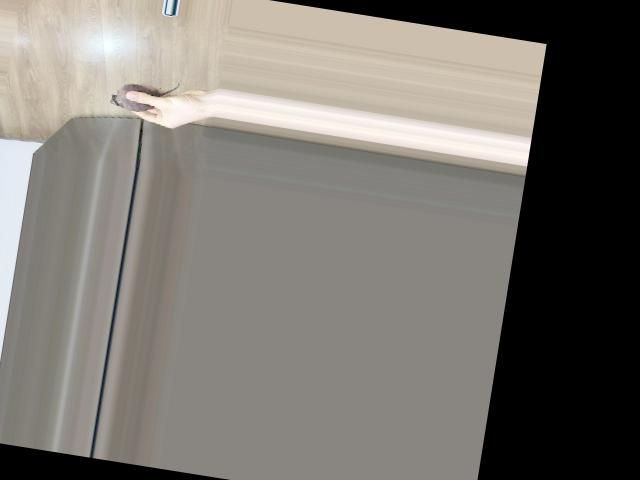beet: (108, 71, 178, 117)
